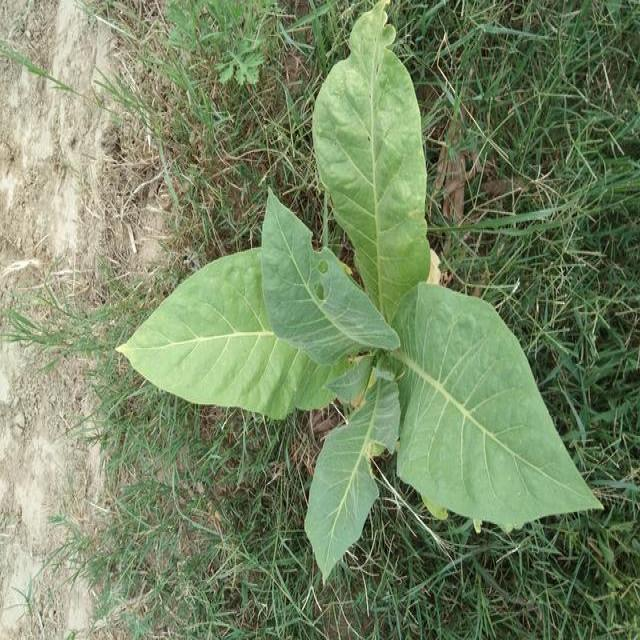crop: (114, 0, 601, 591)
